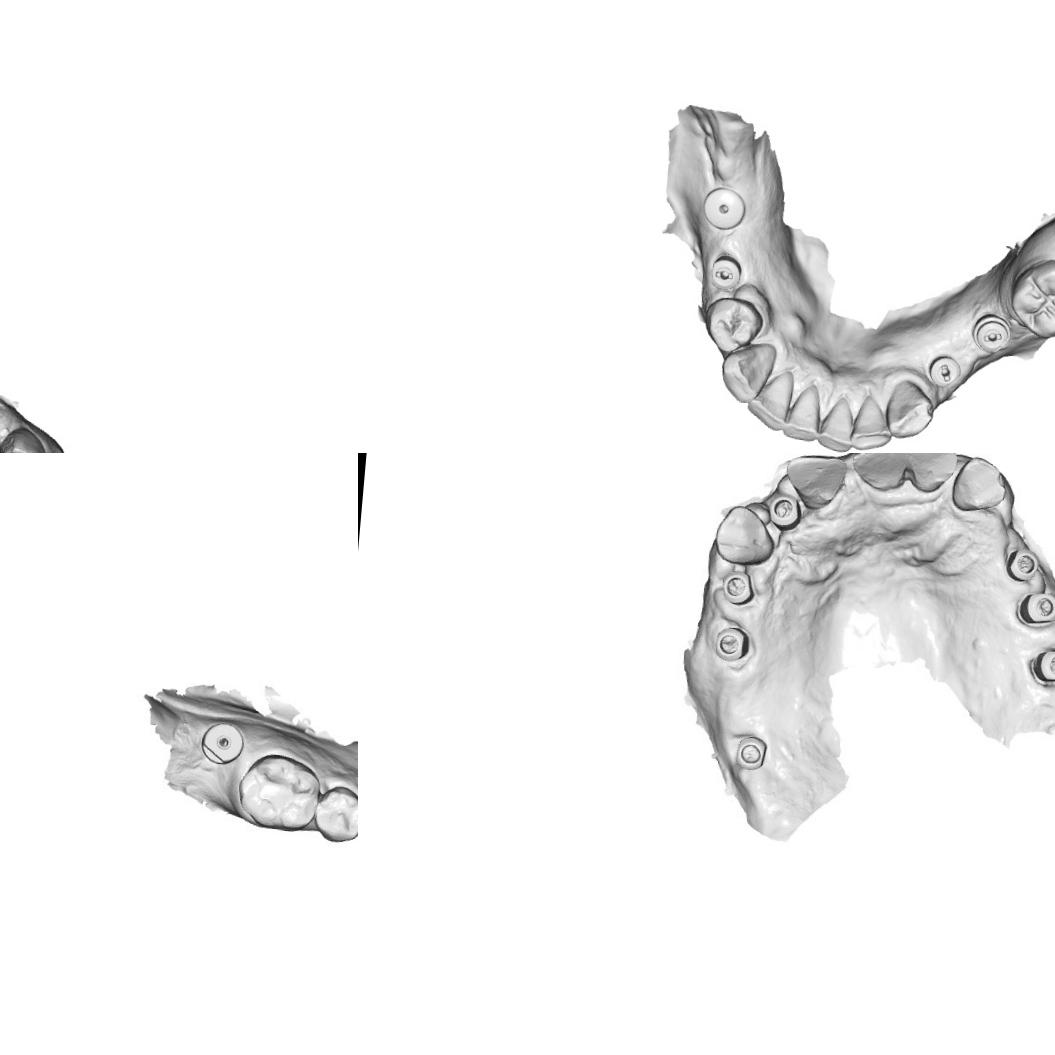canine: (712, 340, 781, 408), (942, 453, 1008, 518), (712, 506, 778, 568), (882, 376, 936, 442), (0, 422, 54, 453)
implant: (697, 181, 754, 236), (198, 721, 248, 766), (730, 730, 772, 774), (764, 492, 806, 530), (712, 622, 750, 662), (718, 568, 756, 607), (1019, 588, 1055, 625), (1008, 545, 1044, 578), (1035, 644, 1055, 684)
implant_minus: (969, 307, 1014, 357), (702, 244, 746, 290), (923, 350, 964, 392)
incisor: (781, 453, 853, 514), (742, 370, 800, 434), (778, 378, 830, 445), (810, 392, 863, 453), (845, 390, 896, 453), (852, 453, 916, 491), (907, 453, 963, 488)
molar: (233, 750, 323, 833), (1003, 254, 1055, 342)
premolar: (700, 293, 766, 355), (312, 784, 358, 843)
